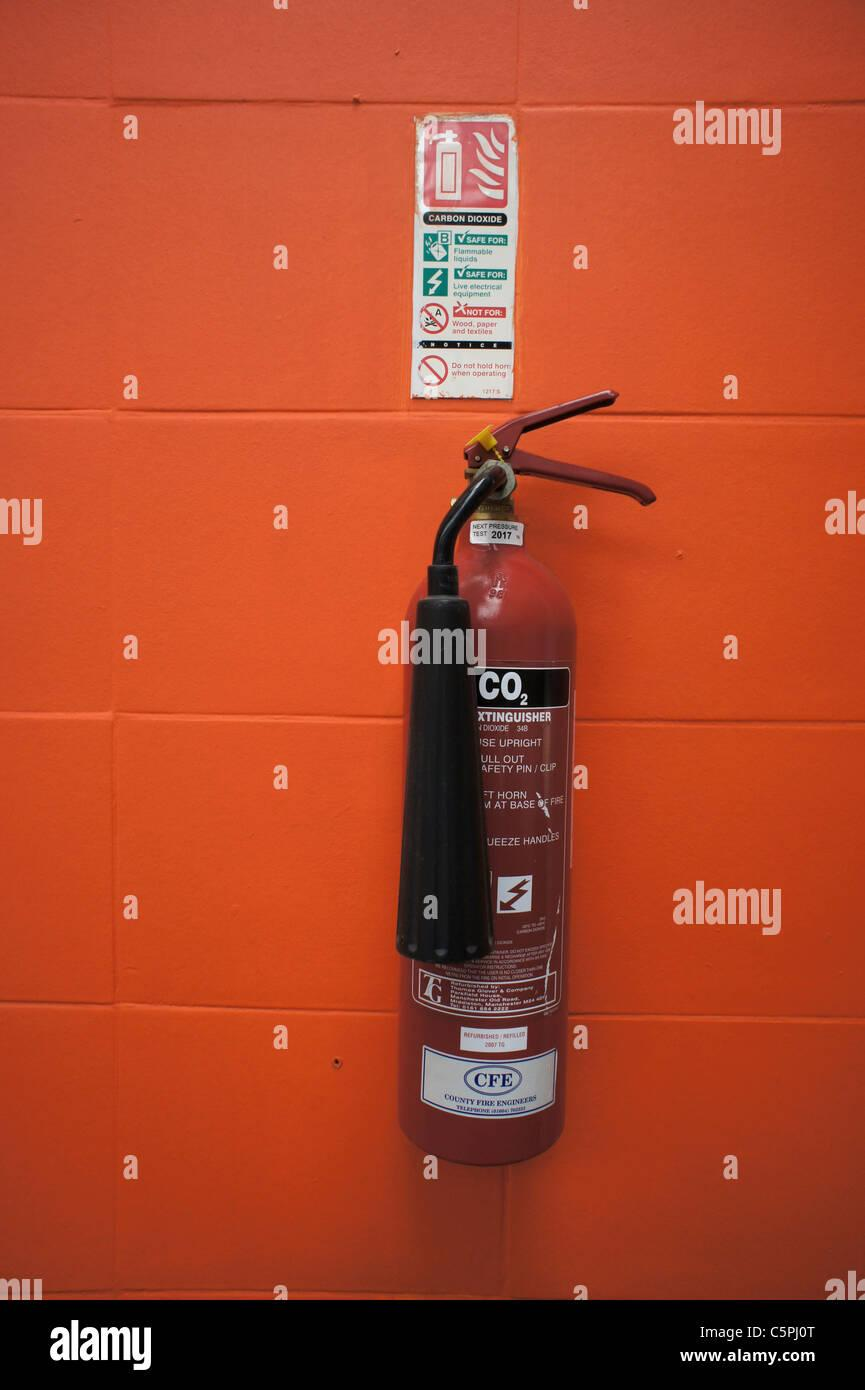wall-mounted: (292, 368, 696, 1170)
